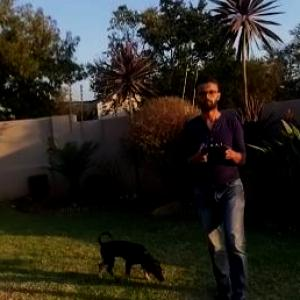follow: (178, 73, 252, 299)
null: (93, 226, 169, 286)
